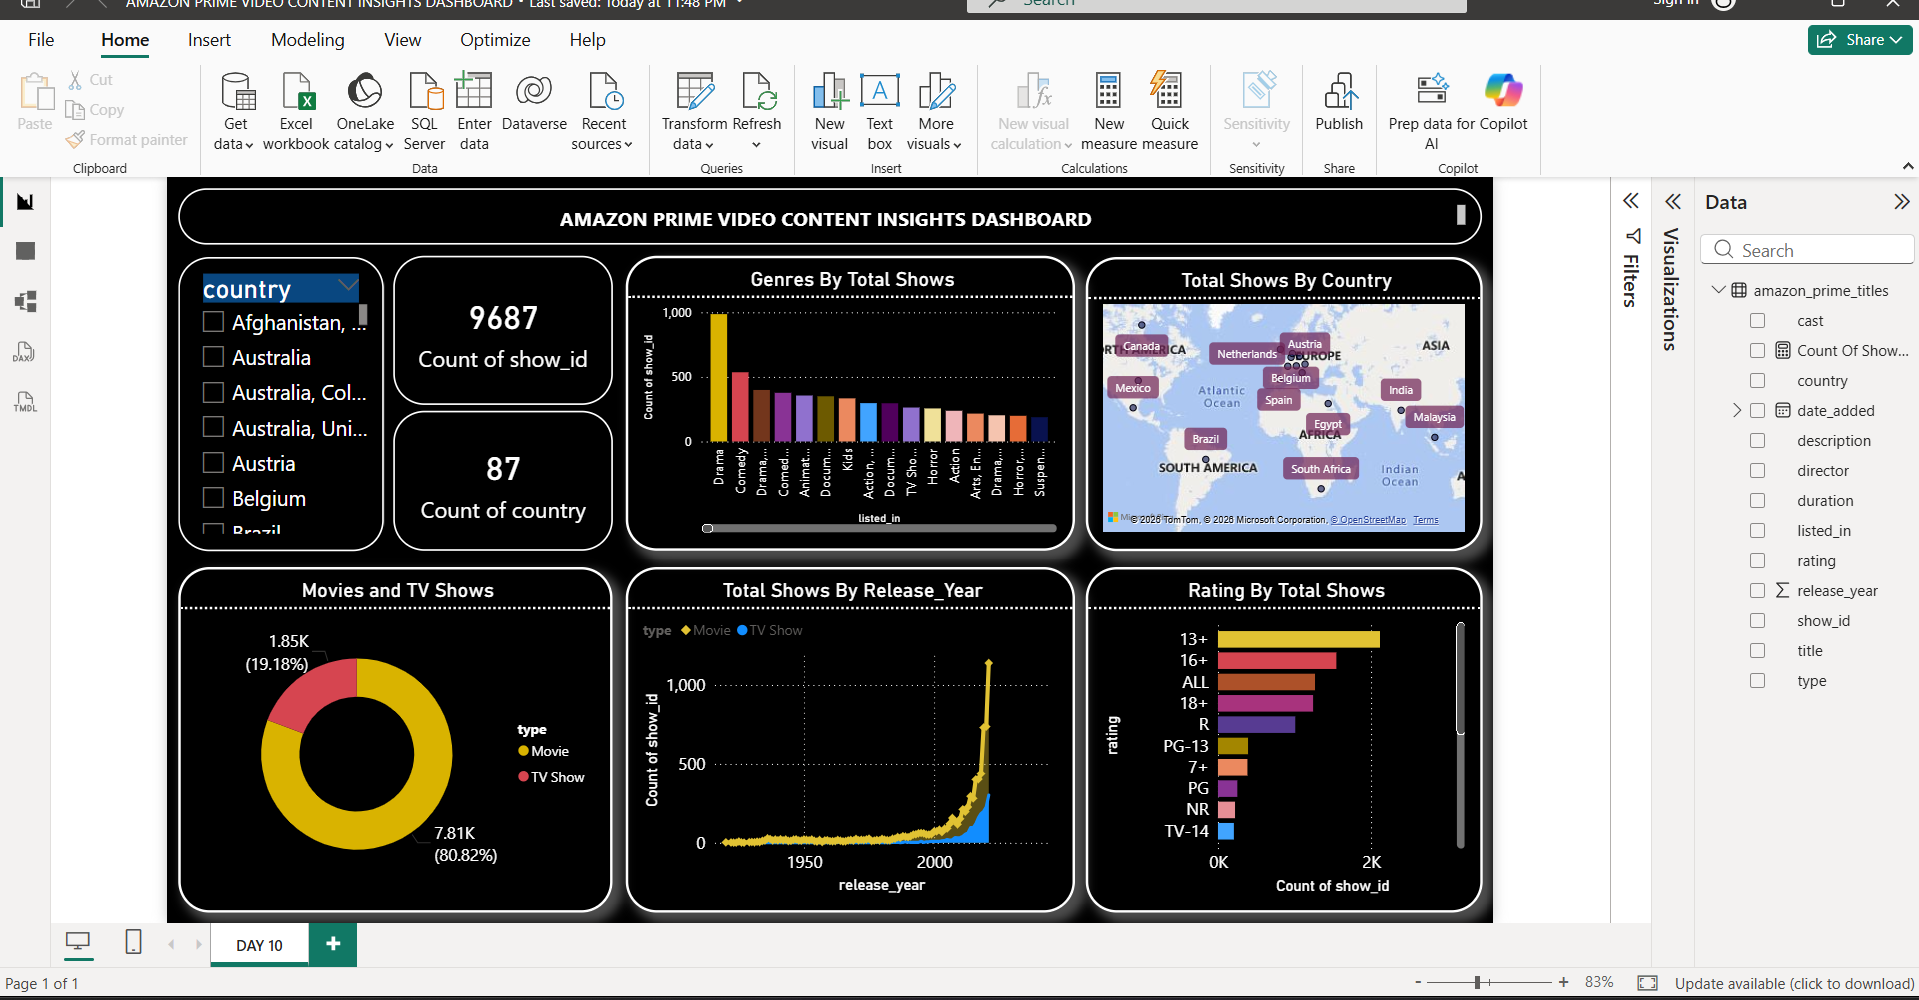

Layout of this report page (visuals, bound fields, positions):
{"tool":"powerbi","page":{"name":"DAY 10","canvas":[1280,720],"ordinal":0},"visuals":[{"type":"card","fields":{"Values":["CountNonNull(amazon_prime_titles.show_id)"]},"box":[218.1,75.5,212.4,144],"z":0},{"type":"card","fields":{"Values":["Count(amazon_prime_titles.country)"]},"box":[218.1,225.2,212.4,135.4],"z":1000},{"type":"donutChart","title":"Movies and TV Shows","fields":{"Category":["amazon_prime_titles.type"],"Y":["CountNonNull(amazon_prime_titles.show_id)"]},"box":[11.4,376.3,419.1,333.5],"z":2000},{"type":"map","title":"Total Shows By Country","fields":{"Category":["amazon_prime_titles.country"]},"box":[886.6,77,383.4,283.7],"z":3000},{"type":"clusteredBarChart","title":"Rating By Total Shows","fields":{"Category":["amazon_prime_titles.rating"],"Y":["CountNonNull(amazon_prime_titles.show_id)"]},"box":[886.6,376.3,383.4,333.5],"z":4000},{"type":"areaChart","title":"Total Shows By Release_Year","fields":{"Category":["amazon_prime_titles.release_year"],"Y":["CountNonNull(amazon_prime_titles.show_id)"],"Series":["amazon_prime_titles.type"]},"box":[443.3,376.3,433.3,333.5],"z":5000},{"type":"slicer","fields":{"Values":["amazon_prime_titles.country"]},"box":[11.4,77,198.1,283.7],"z":6000},{"type":"clusteredColumnChart","title":"Genres By Total Shows","fields":{"Category":["amazon_prime_titles.listed_in"],"Y":["CountNonNull(amazon_prime_titles.show_id)"]},"box":[443.3,75.5,433.3,285.1],"z":7000},{"type":"textbox","box":[11.4,11.4,1258.6,54.2],"z":8000}]}

Visuals, with their boxes on the page's 1280x720 design canvas (x1, y1, x2, y2). These are canvas units, not pixel positions in the 1919x1000 screenshot, which may show the page scaled, cropped or inside an application window:
card - CountNonNull(amazon_prime_titles.show_id): rect(218, 76, 430, 220)
card - Count(amazon_prime_titles.country): rect(218, 225, 430, 361)
"Movies and TV Shows" donutChart: rect(11, 376, 430, 710)
"Total Shows By Country" map: rect(887, 77, 1270, 361)
"Rating By Total Shows" clusteredBarChart: rect(887, 376, 1270, 710)
"Total Shows By Release_Year" areaChart: rect(443, 376, 877, 710)
slicer - amazon_prime_titles.country: rect(11, 77, 210, 361)
"Genres By Total Shows" clusteredColumnChart: rect(443, 76, 877, 361)
textbox: rect(11, 11, 1270, 66)
